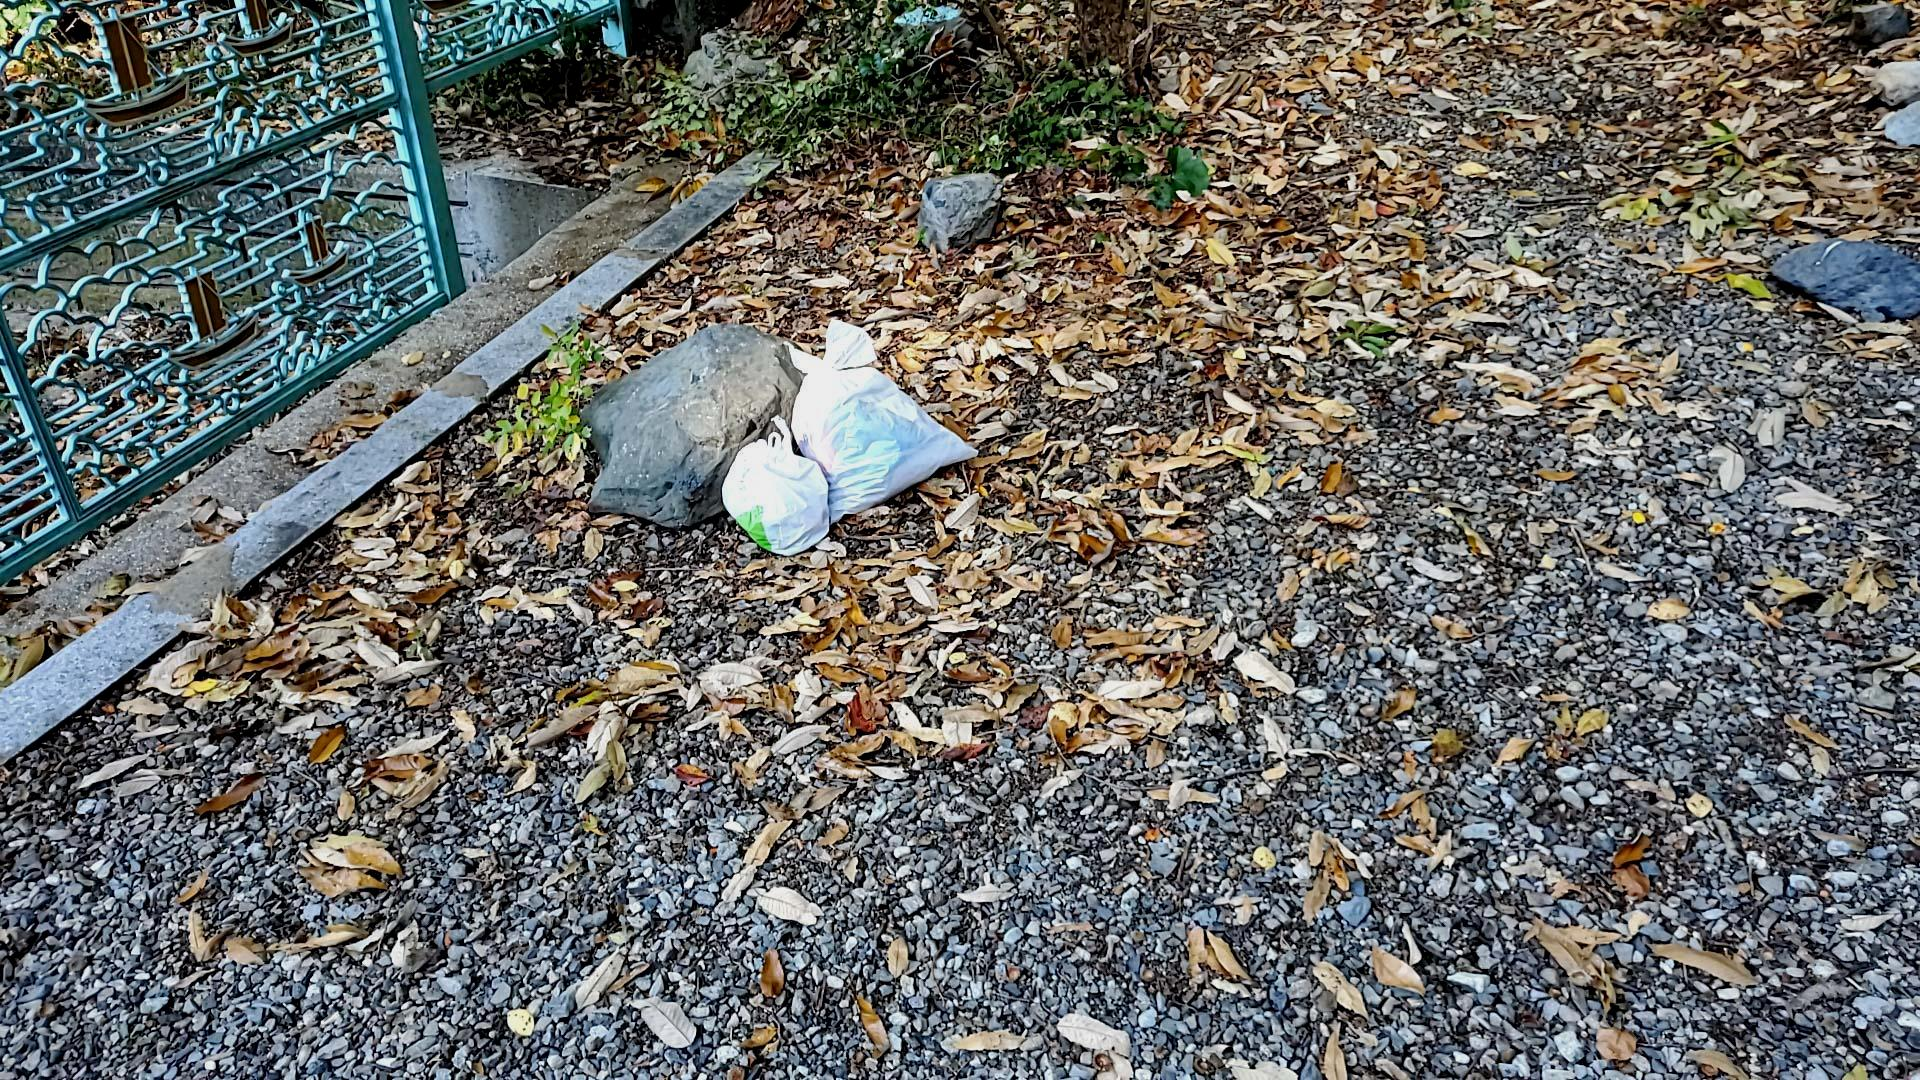white_bag: (773, 313, 988, 525), (705, 407, 837, 556)
